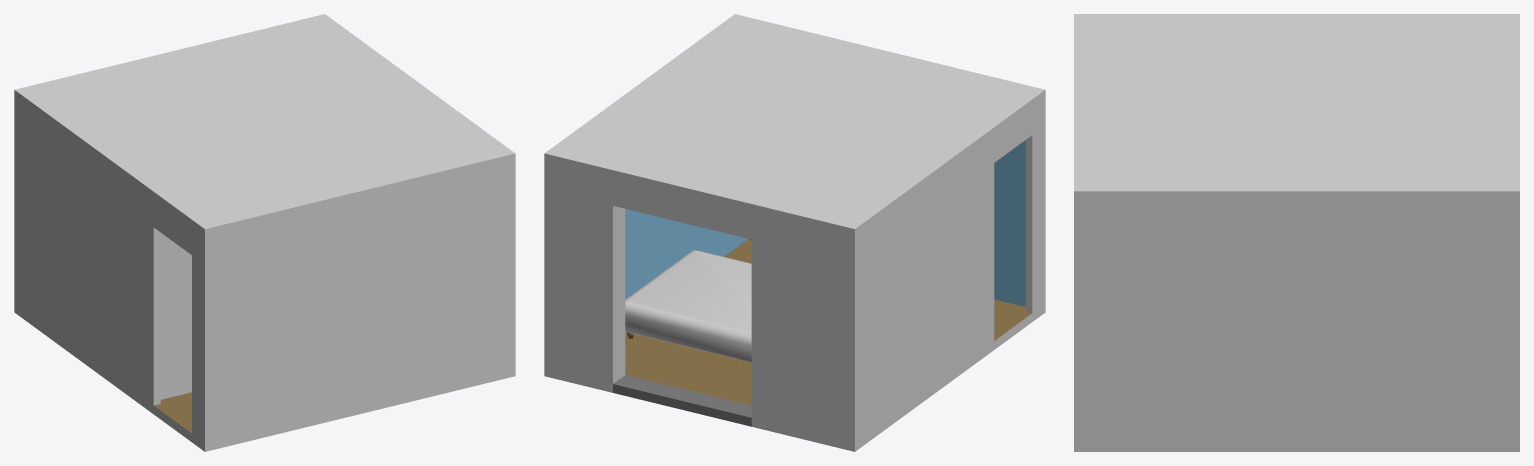
Rendered from Bedroom.fbx.
The picture shows the model from 3 angles, left to right: view 1: azimuth 30°, elevation 25°; view 2: azimuth 150°, elevation 25°; view 3: azimuth 270°, elevation 25°; orthographic projection. The views are drawn at different scales.
Visible parts, largest first — view 1: Flat.002; view 2: Flat.002; view 3: Flat.002.
Boxes of the visible parts, x1=… form: Flat.002: x1=14, y1=14, x2=515, y2=451; Flat.002: x1=544, y1=14, x2=1045, y2=451; Flat.002: x1=1074, y1=14, x2=1519, y2=451.
Bounding box in the file's own units: 3647 × 2500 × 3876.
